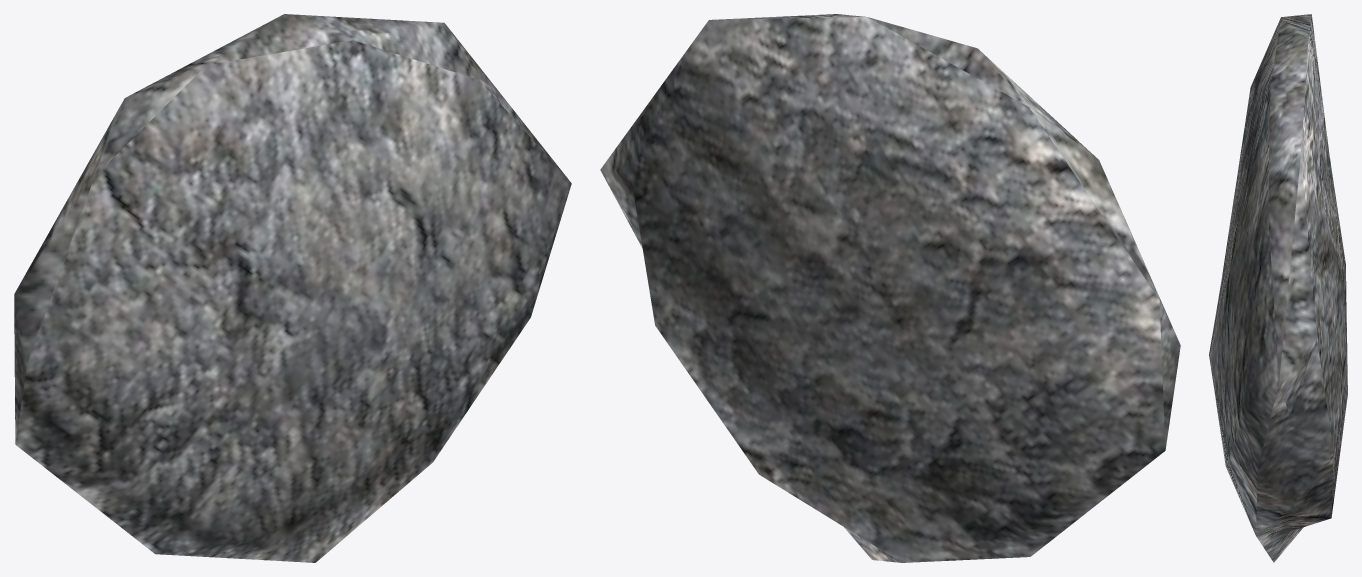
File: PFRrock02.fbx
3 views of the same model, side by side, from view 1: azimuth 30°, elevation 25°; view 2: azimuth 150°, elevation 25°; view 3: azimuth 270°, elevation 25° (orthographic). The views are drawn at different scales.
Parts seen in each view (by area): view 1: Icosphere; view 2: Icosphere; view 3: Icosphere.
Boxes of the visible parts, x1,y1,x2,y2 form: Icosphere: (14,14,571,562); Icosphere: (600,14,1180,562); Icosphere: (1209,14,1347,562).
Size of the model in its own units: 2.76 by 2.58 by 0.6321.
